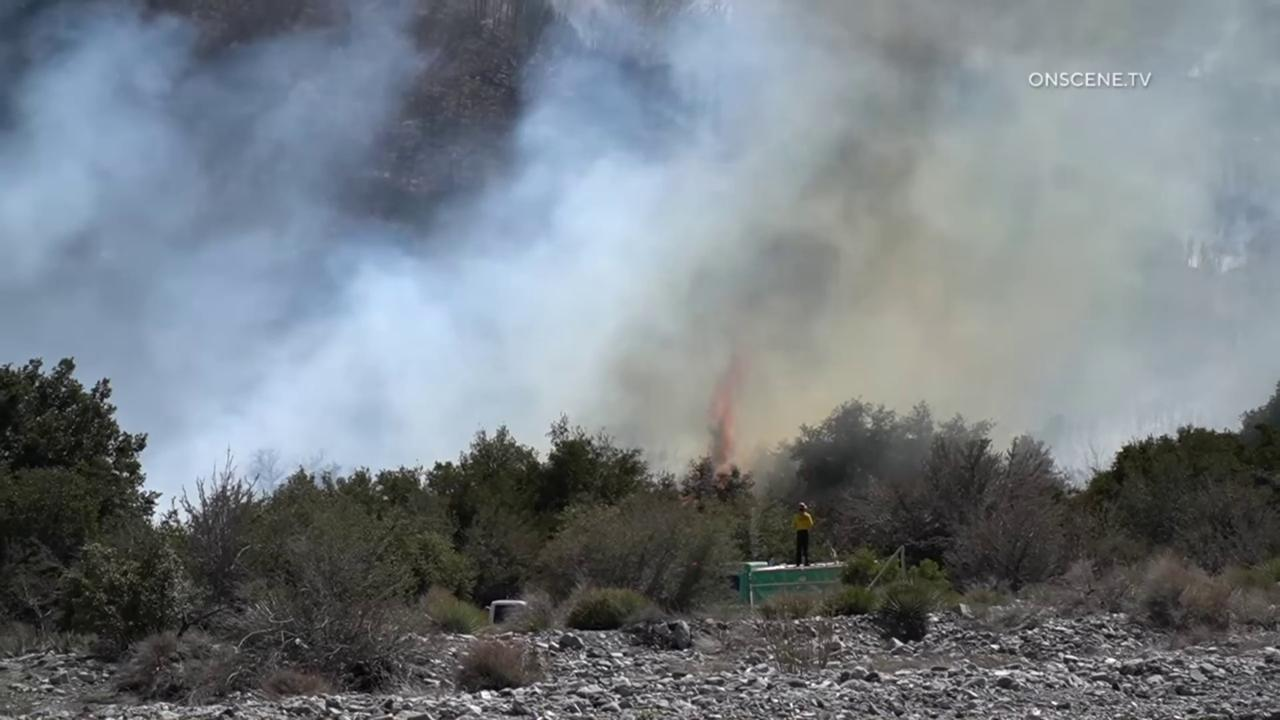fire: (706, 382, 735, 463)
smoke: (0, 0, 1280, 530)
